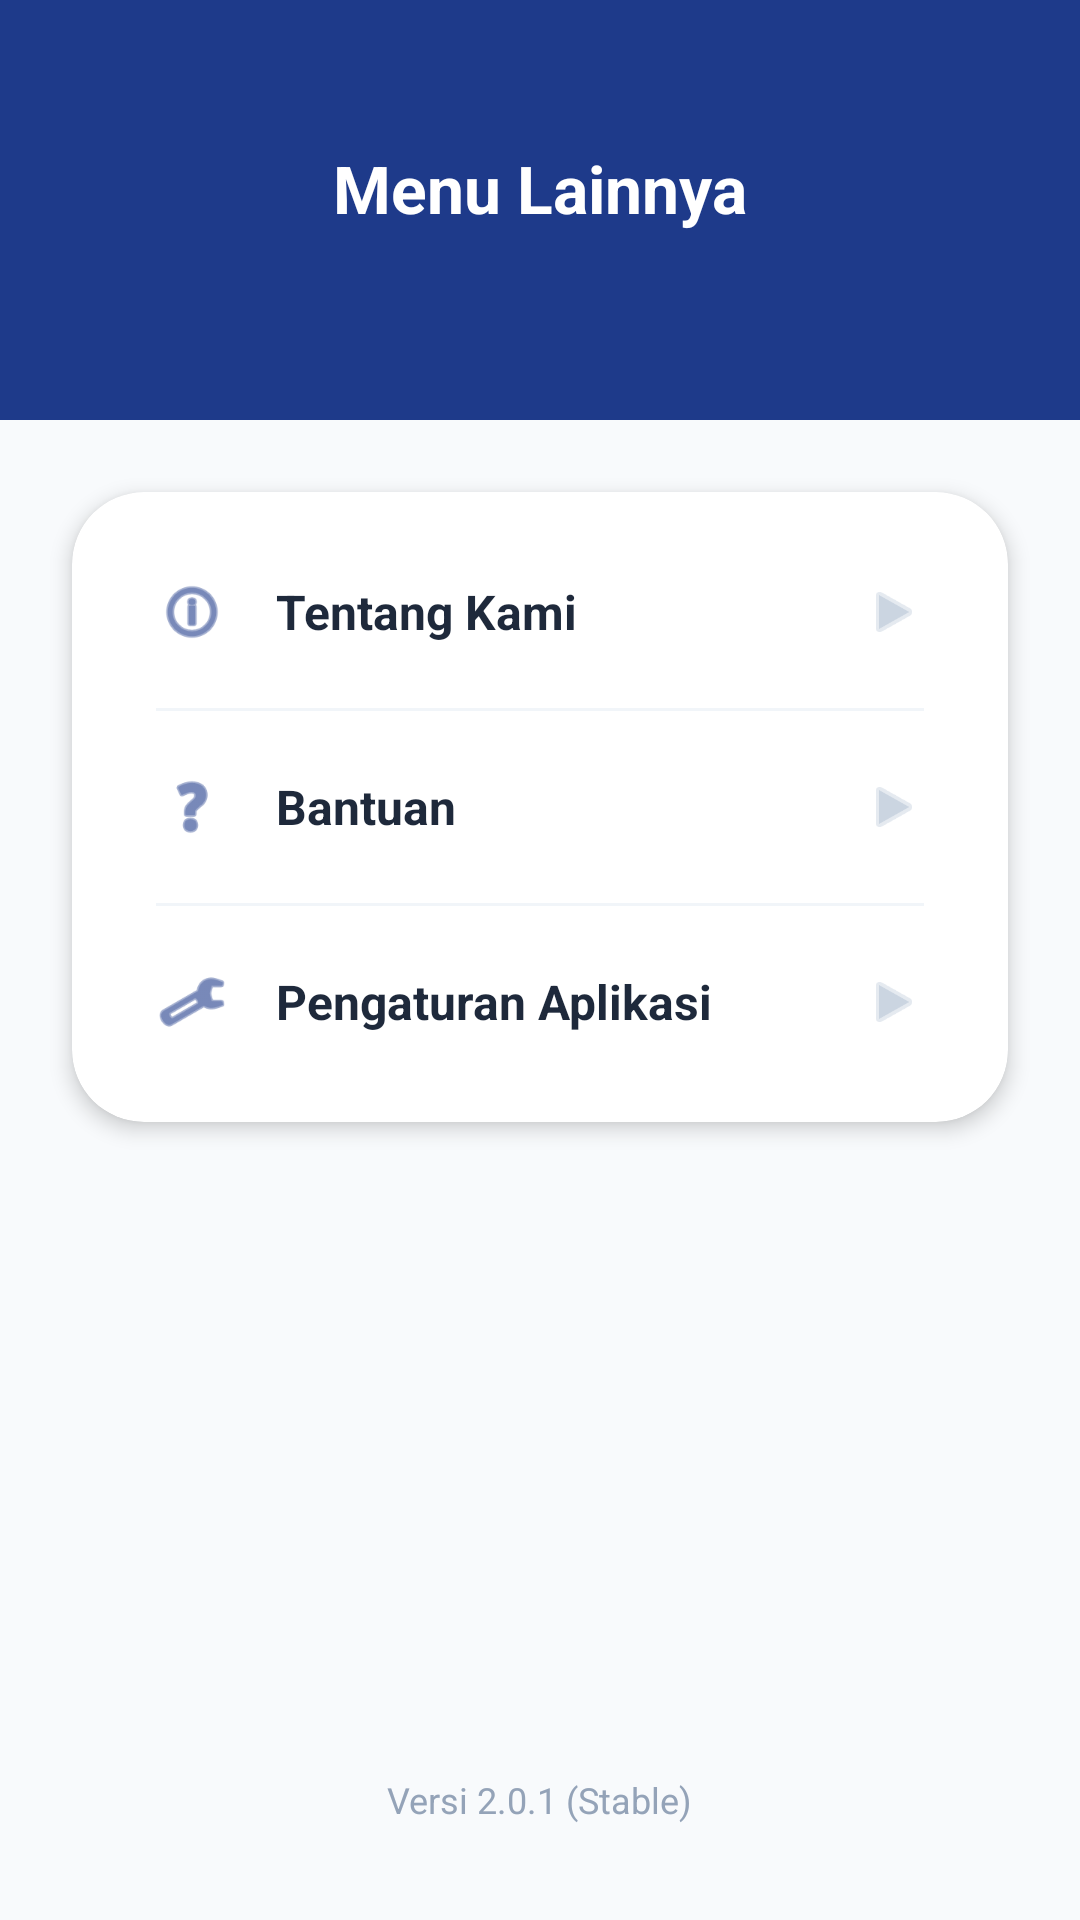

Named icons in this screenshot (1080 × 1920) and their centers, (x,y):
help: (192,807)
info details: (192,612)
play: (894,612), (894,807), (894,1002)
preferences: (191,1002)
